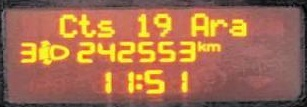1: (132, 11, 151, 38), (177, 67, 190, 94), (100, 68, 114, 93), (123, 69, 134, 94)
2: (73, 39, 94, 64), (116, 39, 134, 62)
3: (175, 39, 196, 62), (18, 39, 37, 63)
4: (95, 41, 114, 62)
5: (142, 67, 166, 94), (136, 39, 155, 62), (156, 39, 174, 62)
9: (152, 11, 172, 38)
X: (186, 11, 208, 38), (55, 11, 77, 38), (77, 12, 95, 37), (96, 18, 115, 38), (209, 16, 227, 37), (228, 17, 246, 38), (205, 41, 221, 51), (134, 72, 142, 90), (197, 38, 204, 52)
